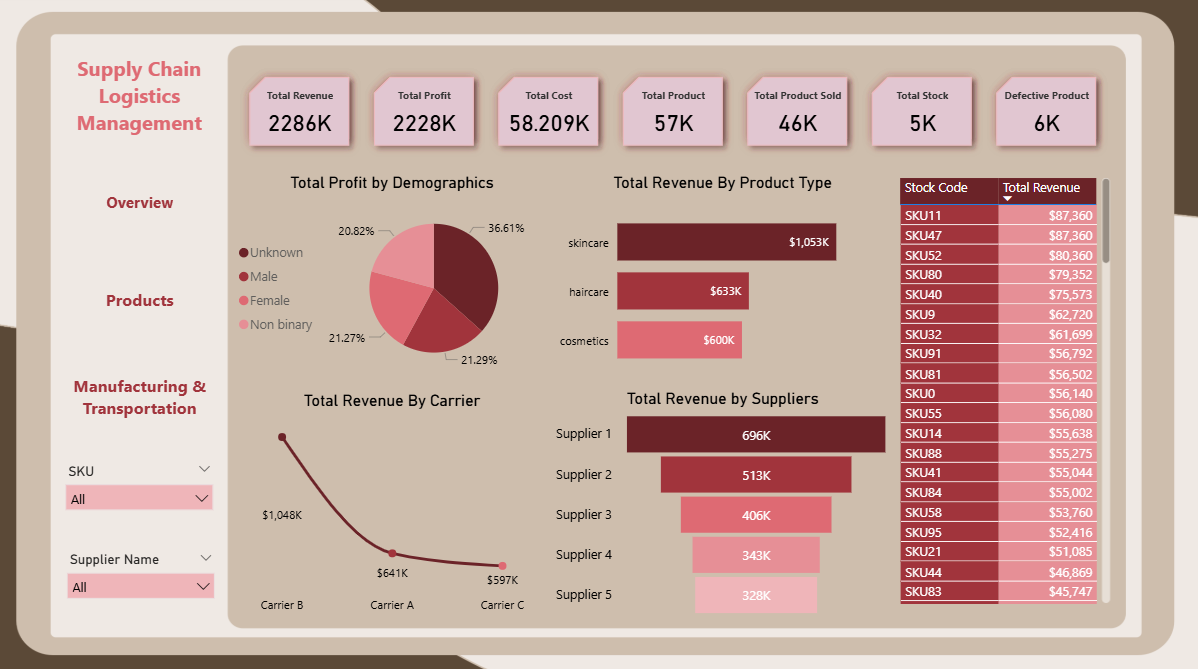

The dashboard page shown, as its layout file describes it:
{"tool":"powerbi","page":{"name":"  Overview","canvas":[1280,720],"ordinal":0},"visuals":[{"type":"cardVisual","fields":{"Data":["Measure.Total Revenue","Measure.Total Profit","Measure.Total Cost","Measure.total Product Produced","Measure.Total Product Sold","Measure.total Stock","Measure.Defective Product"]},"box":[251.3,71.6,936.9,100.2],"z":0},{"type":"pieChart","title":"Total Profit by Demographics","fields":{"Y":["Measure.Total Profit"],"Category":["supply_chain_data.Genders"]},"box":[251.3,190.9,337.2,224.3],"z":1000},{"type":"clusteredBarChart","title":"Total Revenue By Product Type","fields":{"Y":["Measure.Total Revenue"],"Category":["supply_chain_data.Product_type"]},"box":[588.5,190.9,364.2,224.3],"z":2000},{"type":"stackedAreaChart","title":"Total Revenue By Carrier","fields":{"Category":["supply_chain_data.Shipping _carrier"],"Y":["Measure.Total Revenue"]},"box":[251.3,421.5,337.2,245],"z":3000},{"type":"funnel","title":"Total Revenue by Suppliers","fields":{"Y":["Measure.Total Revenue"],"Category":["supply_chain_data.Supplier_name"]},"box":[588.5,419.9,364.2,246.5],"z":4000},{"type":"pageNavigator","box":[77.9,175,149.5,300.6],"z":5000,"group":"g1"},{"type":"tableEx","fields":{"Values":["supply_chain_data.Stock_Unique_code","Measure.Total Revenue"]},"box":[952.8,190.9,233.8,461.3],"z":5000},{"type":"cardVisual","fields":{"Data":["Measure.Total Revenue","Measure.Total Profit","Measure.Total Cost","Measure.total Product Produced","Measure.Total Product Sold","Measure.total Stock","Measure.Defective Product"]},"box":[251.8,71.4,935.7,107.1],"z":6000},{"type":"slicer","fields":{"Values":["stock level.SKU"]},"box":[63.6,493.1,176.6,77.9],"z":6000,"group":"g1"},{"type":"group","id":"g1","title":"Group 1","box":[63.6,58.9,178.1,604.4],"z":7000},{"type":"slicer","fields":{"Values":["supply_chain_data.Supplier_name"]},"box":[65.2,587,176.6,76.3],"z":7000,"group":"g1"},{"type":"textbox","box":[70,58.9,163.8,98.6],"z":8000,"group":"g1"}]}

Visuals, with their boxes in screenshot pixels (x1, y1, x2, y2), scaled from the page's 1280x720 canvas onto the 1198x669 screenshot:
cardVisual - Measure.Total Revenue x Measure.Total Profit: select_region(235, 67, 1112, 160)
"Total Profit by Demographics" pieChart: select_region(235, 177, 551, 386)
"Total Revenue By Product Type" clusteredBarChart: select_region(551, 177, 892, 386)
"Total Revenue By Carrier" stackedAreaChart: select_region(235, 392, 551, 619)
"Total Revenue by Suppliers" funnel: select_region(551, 390, 892, 619)
pageNavigator: select_region(73, 163, 213, 442)
tableEx - supply_chain_data.Stock_Unique_code x Measure.Total Revenue: select_region(892, 177, 1111, 606)
cardVisual - Measure.Total Revenue x Measure.Total Profit: select_region(236, 66, 1111, 166)
slicer - stock level.SKU: select_region(60, 458, 225, 531)
"Group 1" group: select_region(60, 55, 226, 616)
slicer - supply_chain_data.Supplier_name: select_region(61, 545, 226, 616)
textbox: select_region(66, 55, 219, 146)
